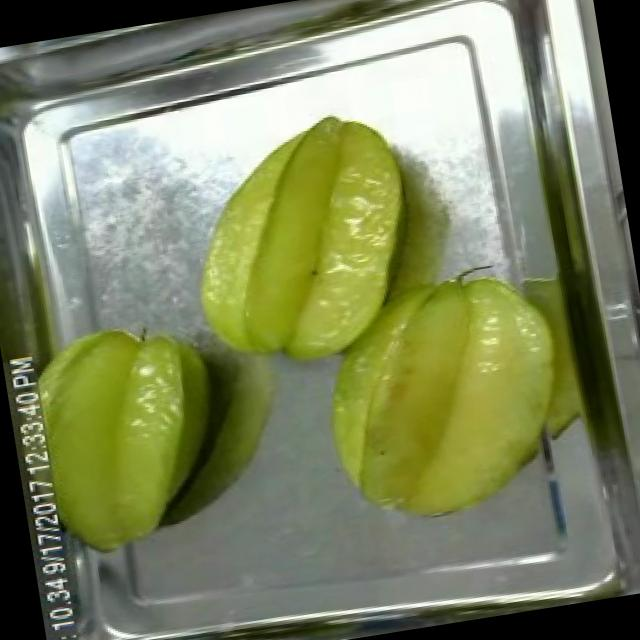fruit: (296, 248, 606, 548), (165, 94, 444, 394), (16, 306, 224, 568)
